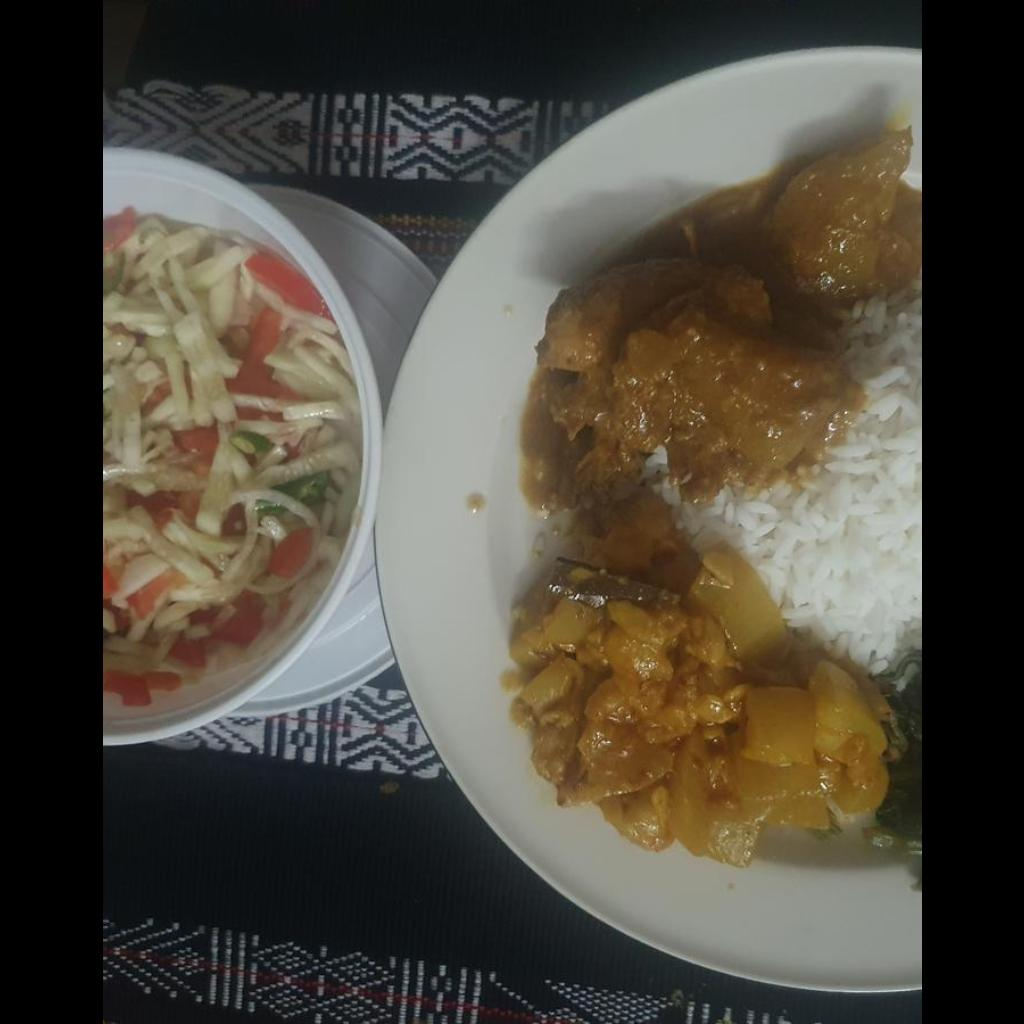chicken: (541, 123, 913, 519)
rice: (691, 297, 920, 666)
salad: (102, 211, 361, 699)
vegetable: (508, 503, 902, 866)
